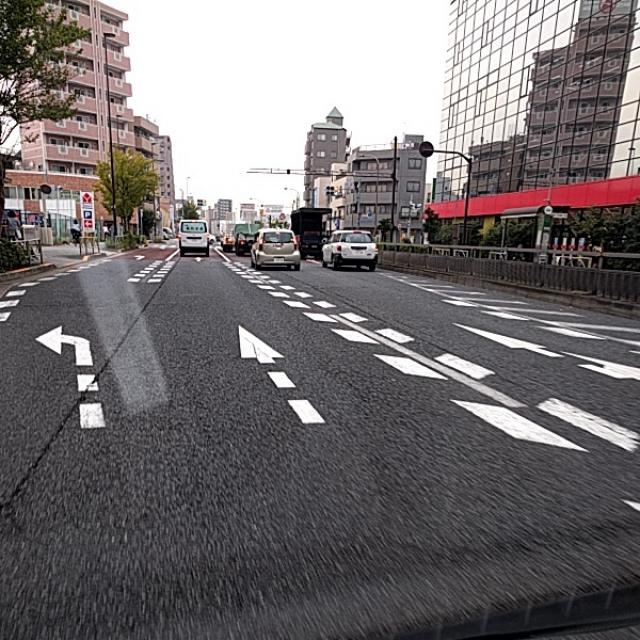pothole: (241, 330, 292, 394)
